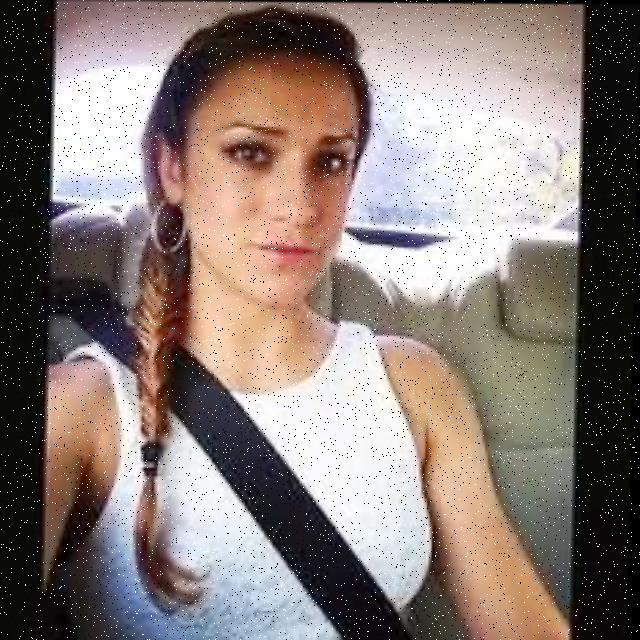seatbelt: (46, 301, 473, 640)
